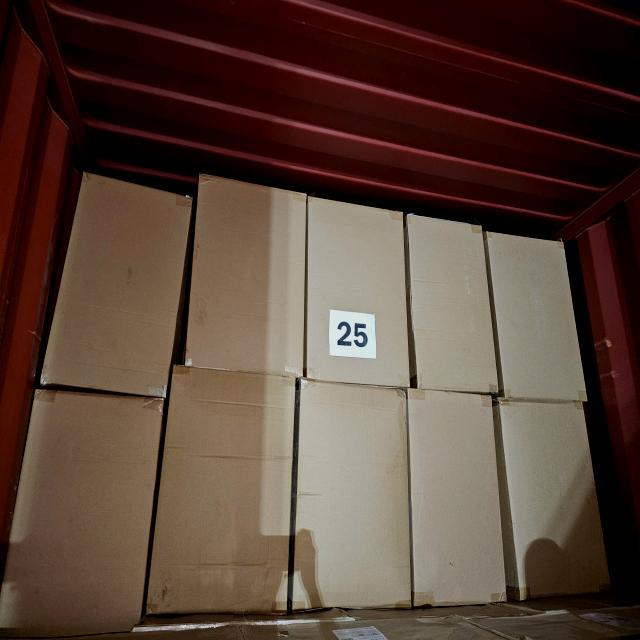Carton: (142, 360, 298, 618), (11, 380, 153, 640), (55, 168, 189, 398), (293, 372, 405, 608), (191, 172, 311, 380), (502, 398, 602, 608), (407, 384, 501, 606), (310, 194, 414, 388), (407, 209, 497, 391), (496, 226, 584, 402)
